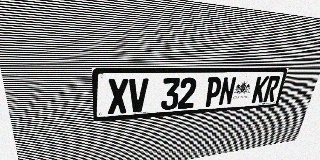2: (177, 77, 197, 109)
3: (161, 78, 180, 110)
K: (251, 76, 269, 103)
N: (218, 77, 237, 106)
P: (203, 77, 223, 107)
R: (263, 76, 281, 102)
V: (128, 78, 148, 113)
X: (107, 79, 128, 114)
